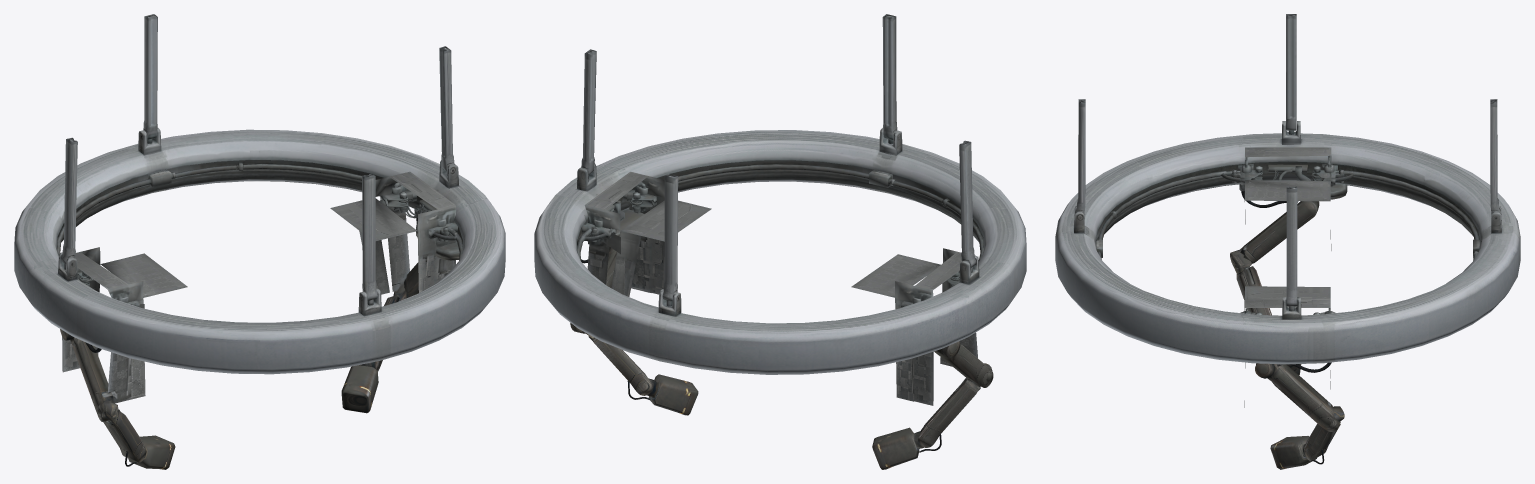
Rendered from clinical_scanner_p2_pbr_4k.glb.
The picture shows the model from 3 angles, left to right: view 1: azimuth 30°, elevation 25°; view 2: azimuth 150°, elevation 25°; view 3: azimuth 270°, elevation 25°; orthographic projection. The views are drawn at different scales.
Visible parts, largest first — view 1: tripo_node_46c163ed-ddf4-4e4d-a6d3-37429be525e8; view 2: tripo_node_46c163ed-ddf4-4e4d-a6d3-37429be525e8; view 3: tripo_node_46c163ed-ddf4-4e4d-a6d3-37429be525e8.
Boxes of the visible parts, x1,y1,x2,y2 form: tripo_node_46c163ed-ddf4-4e4d-a6d3-37429be525e8: (14, 14, 505, 469); tripo_node_46c163ed-ddf4-4e4d-a6d3-37429be525e8: (534, 14, 1026, 469); tripo_node_46c163ed-ddf4-4e4d-a6d3-37429be525e8: (1055, 14, 1520, 469).
Size of the model in its own units: 0.9995 by 0.7739 by 0.9995.
Materials: 1 (1 with a texture image).
